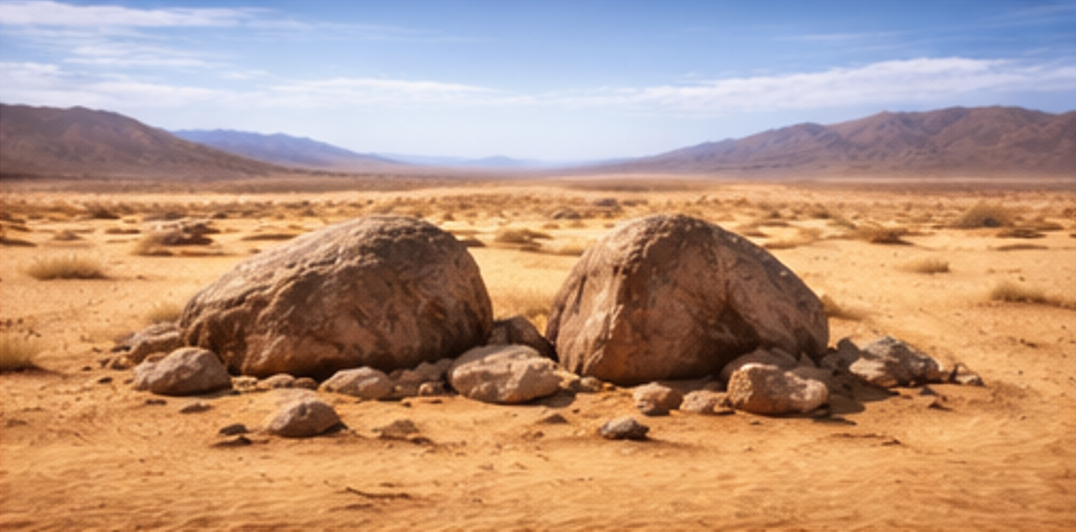rocks: (179, 216, 491, 377), (546, 215, 827, 383), (845, 337, 980, 385), (449, 345, 560, 403), (726, 363, 828, 413), (134, 349, 229, 393), (264, 394, 340, 437), (319, 367, 392, 399), (631, 382, 683, 415), (598, 415, 649, 439)
